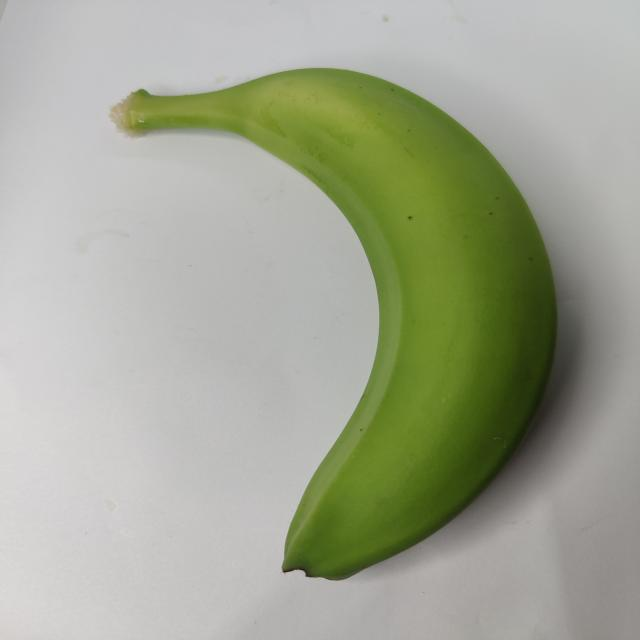raw: (81, 55, 586, 594)
